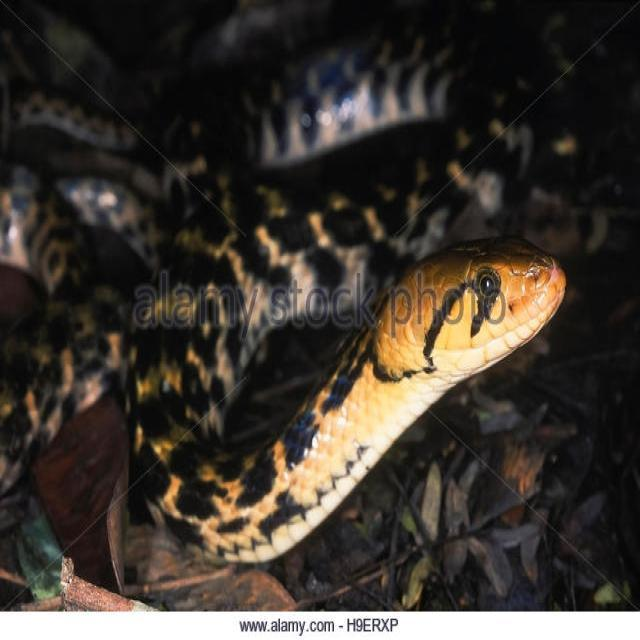Snake: (0, 28, 582, 558)
